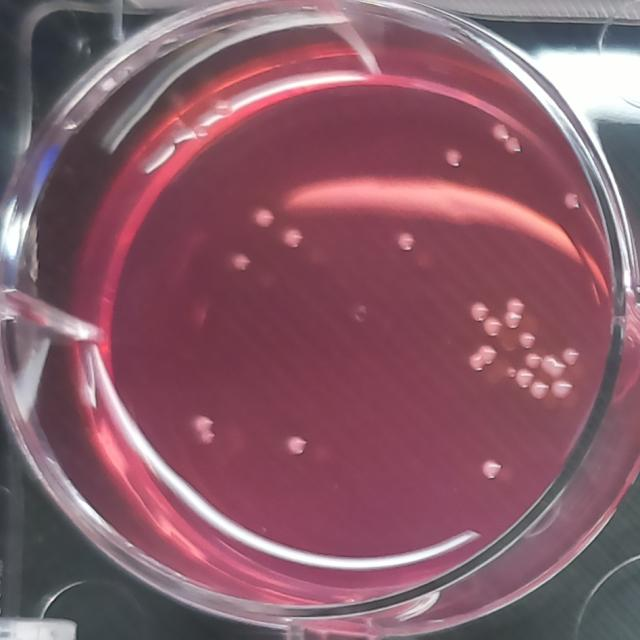Bacillus: (467, 342, 499, 374), (189, 412, 218, 446), (541, 349, 566, 382), (394, 228, 421, 258), (278, 225, 306, 252), (478, 456, 505, 484), (251, 204, 277, 232), (228, 249, 254, 276), (444, 146, 470, 172), (282, 433, 308, 459), (550, 376, 576, 400), (558, 189, 582, 214), (467, 300, 490, 324), (529, 377, 550, 402), (514, 366, 536, 389), (488, 121, 510, 143), (504, 295, 527, 316), (482, 315, 502, 337), (503, 310, 523, 331), (518, 329, 537, 351), (504, 134, 523, 156), (562, 346, 582, 366), (524, 351, 542, 370)
